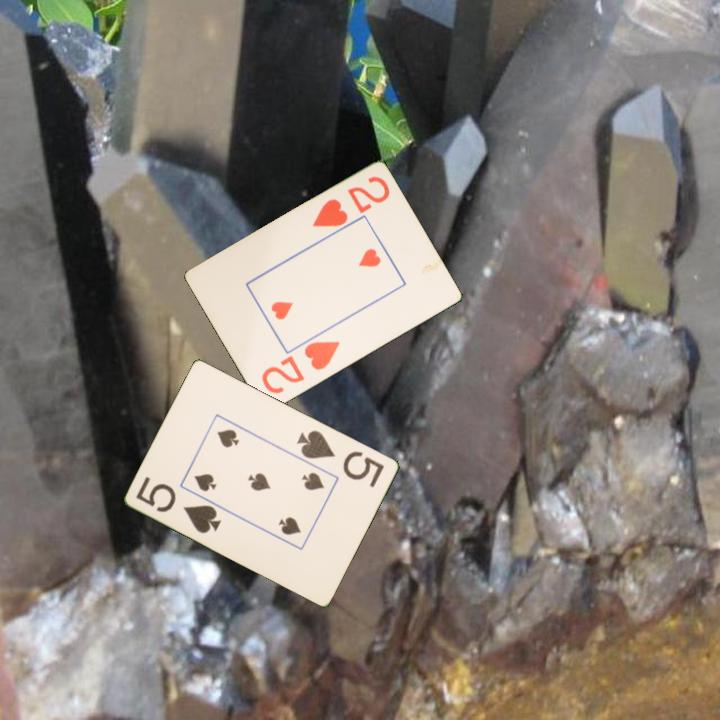2h: (258, 338, 343, 397), (309, 173, 393, 230)
5s: (294, 426, 387, 490), (132, 473, 225, 536)
